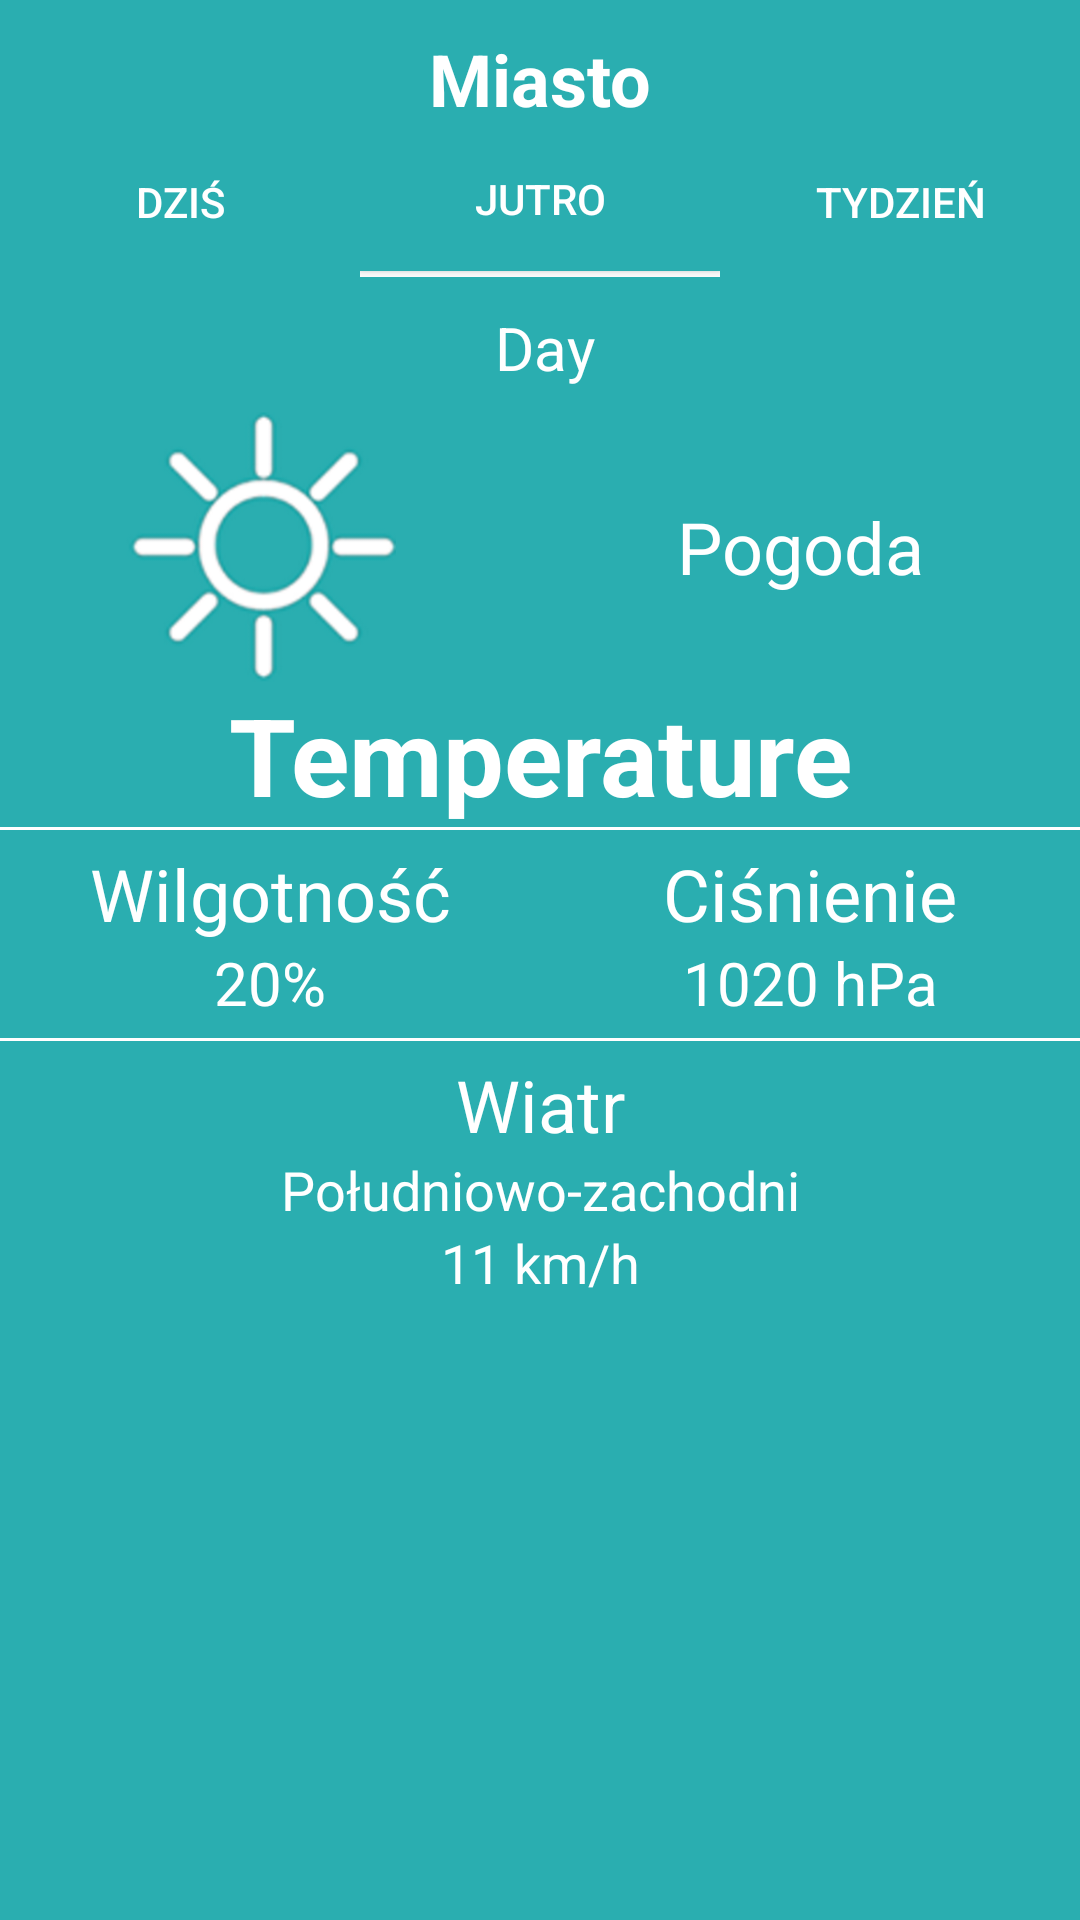

Named icons in this screenshot (1080 × 1920) and their centers, point (x, y):
slonce: point (264, 547)
